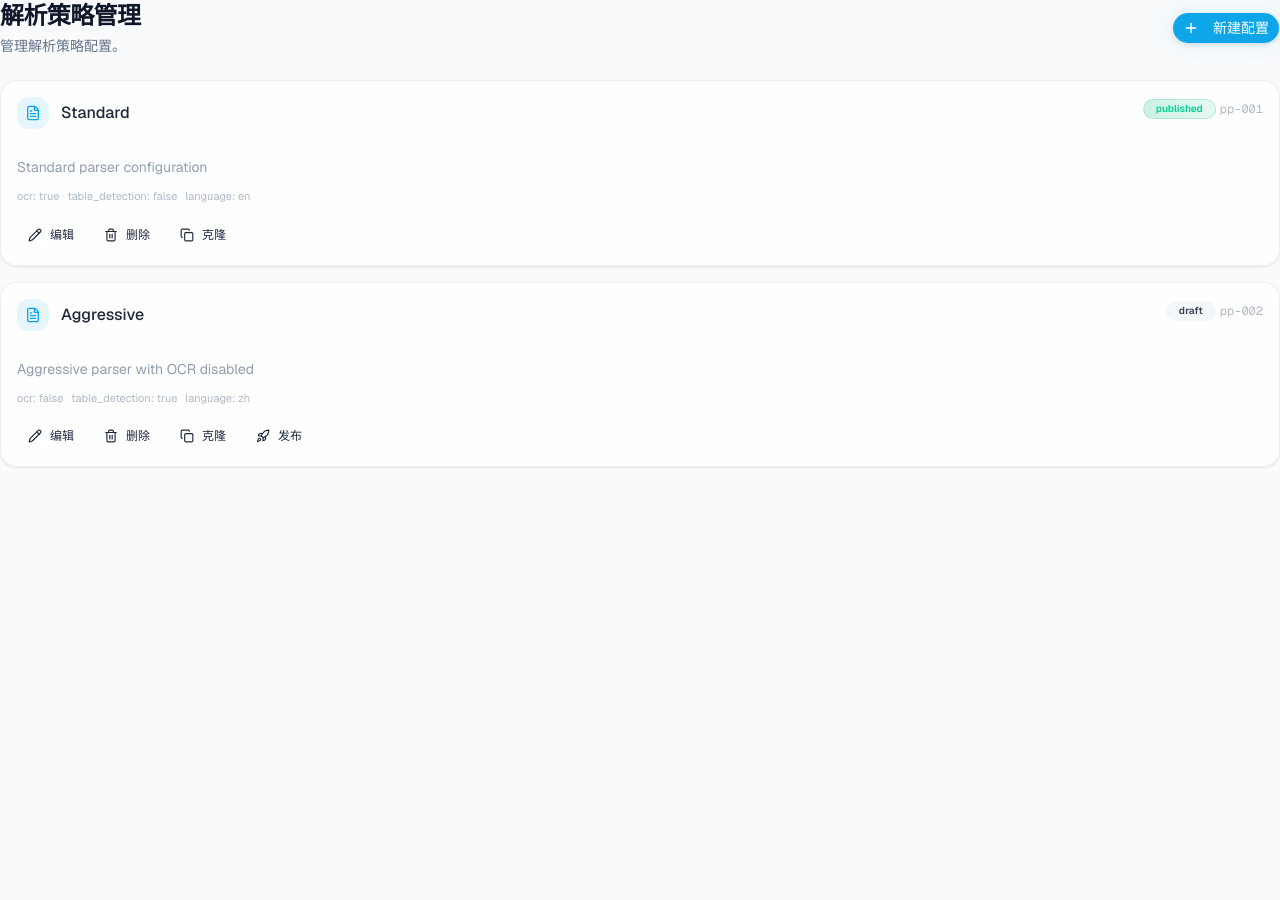
Test: ParserProfilesPage › Create Profile › opens create dialog when clicking new profile button
This screenshot has width=1280, height=900.
Check: the text "Standard" is shown, box [61,101,130,125]
Click the button "新建配置" at (1226,28), box [1172,12,1279,44]
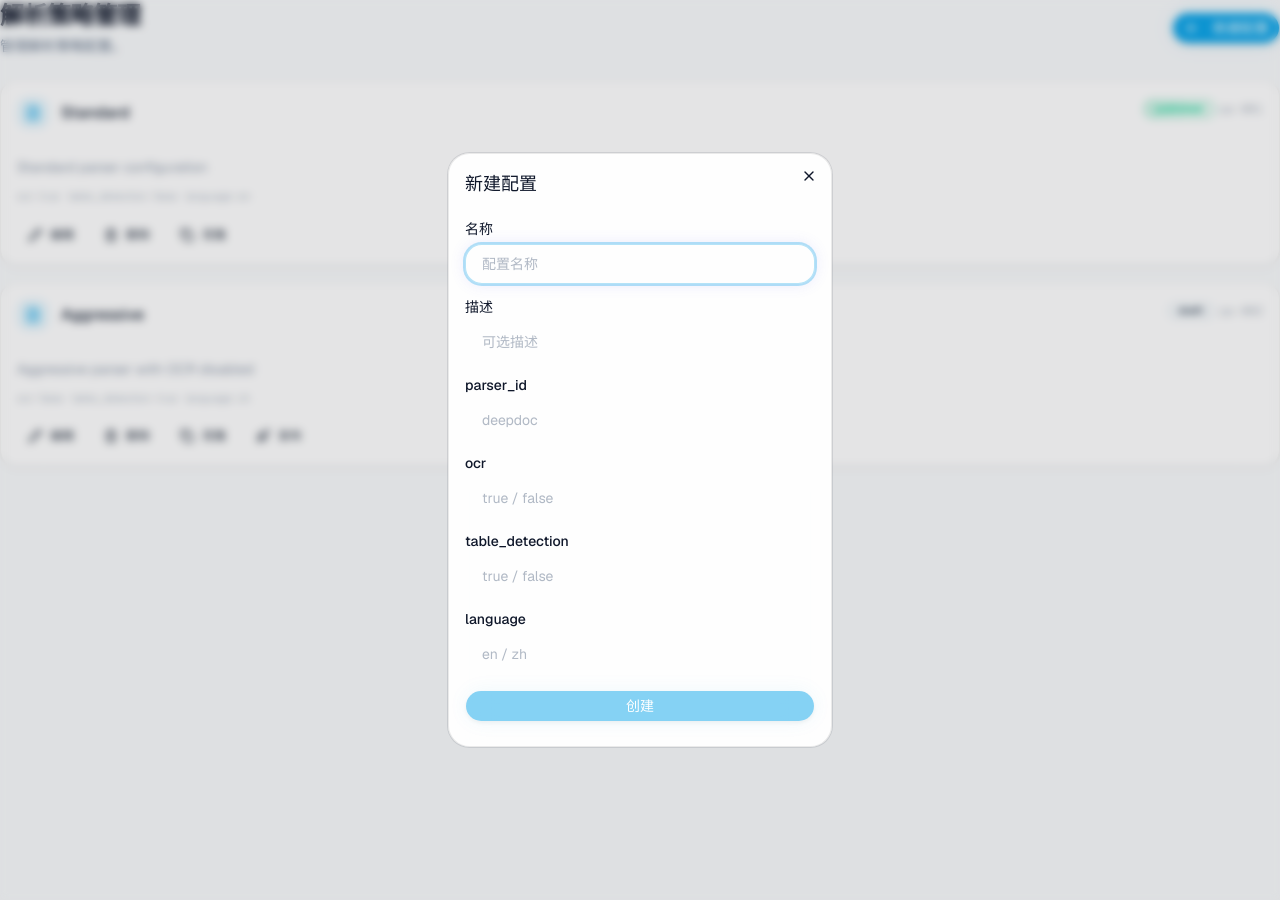
Check: the dialog with test id "create-profile-dialog" is shown, box [448,153,832,747]
